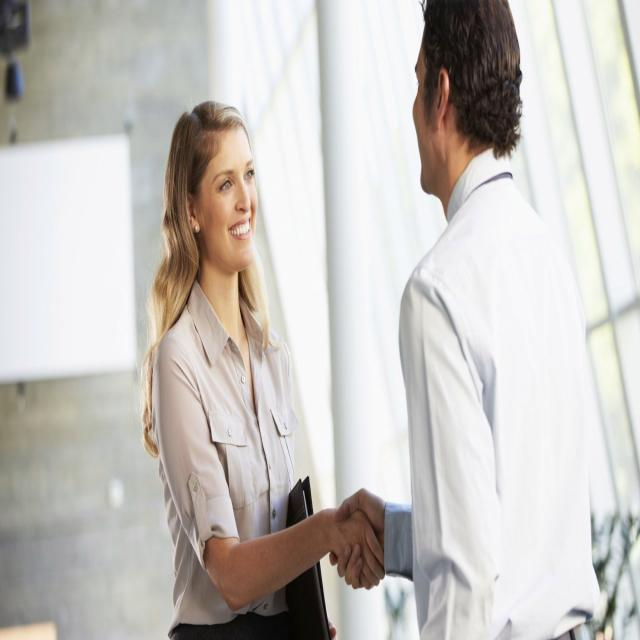adult: (329, 0, 575, 640), (150, 99, 382, 640)
